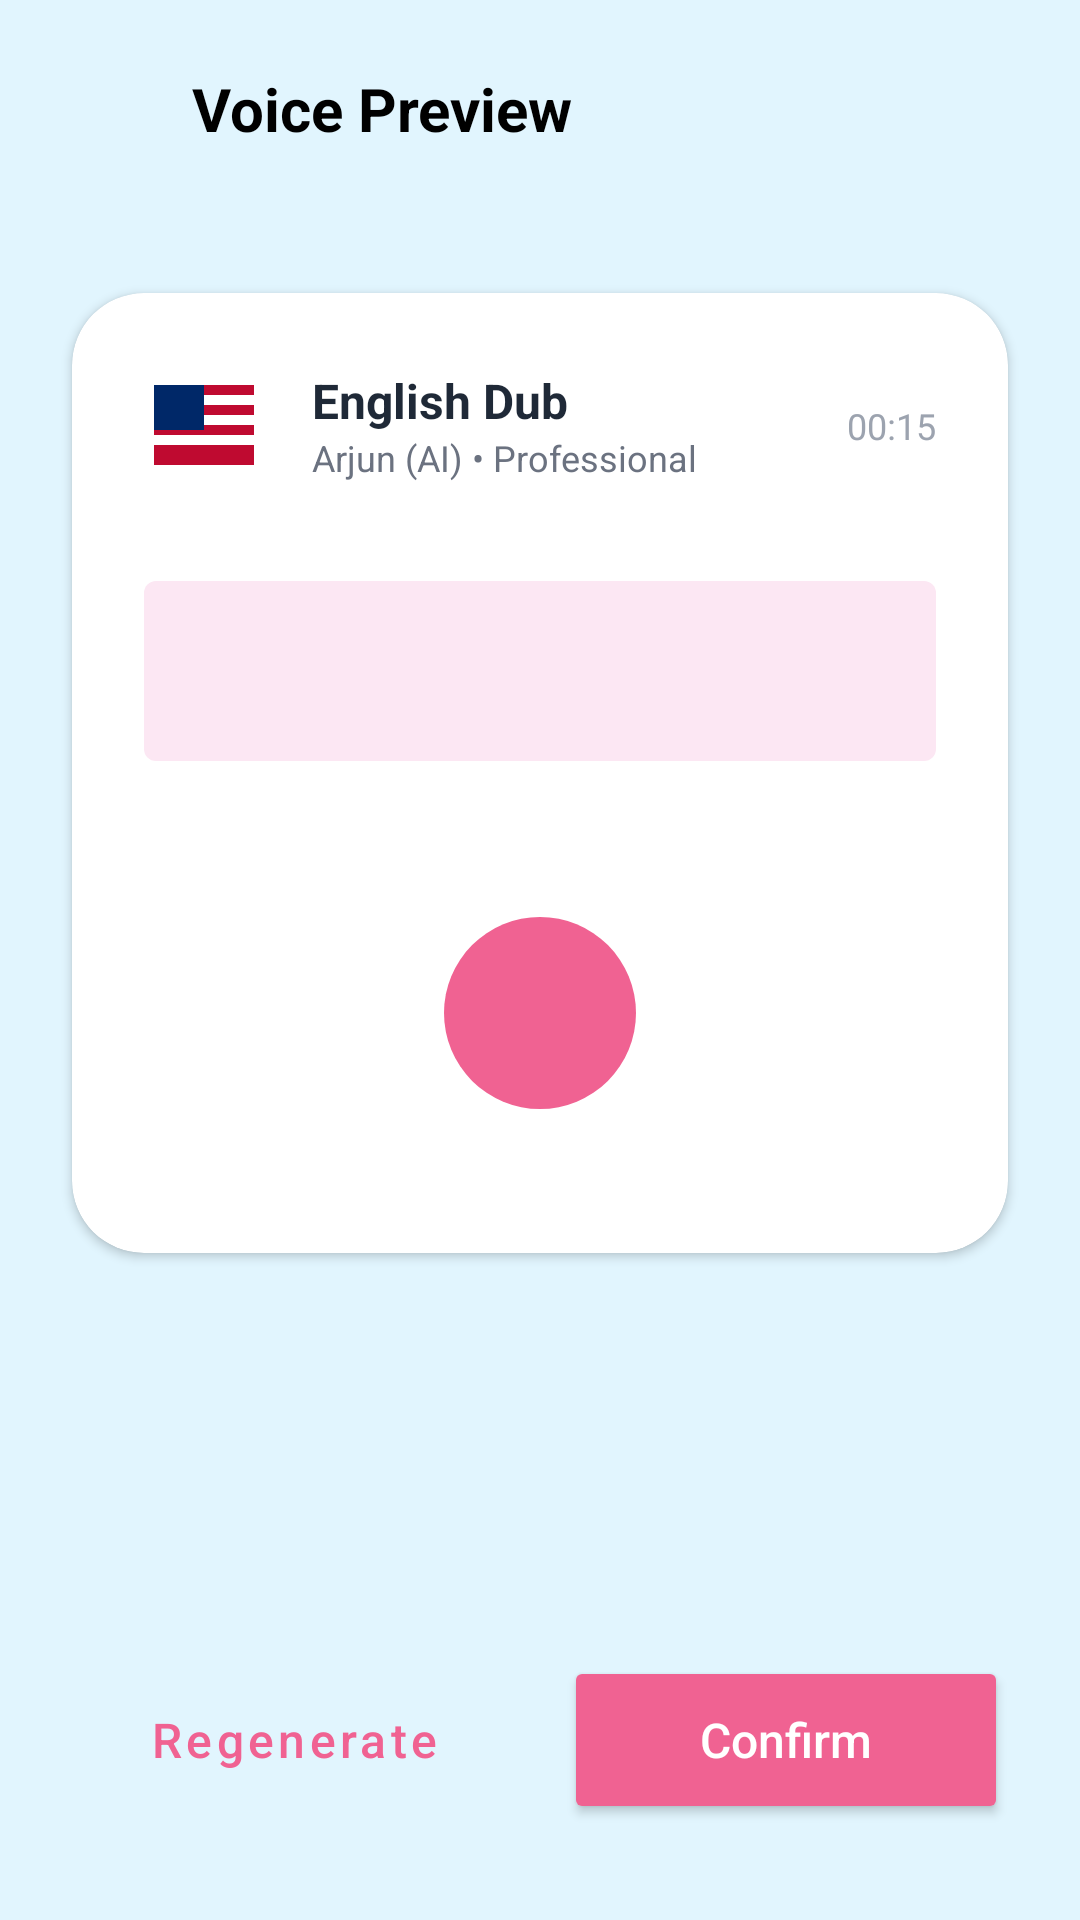

Named icons in this screenshot (1080w x 1920h) and their centers, [x,y]:
flag us: [204,425]
